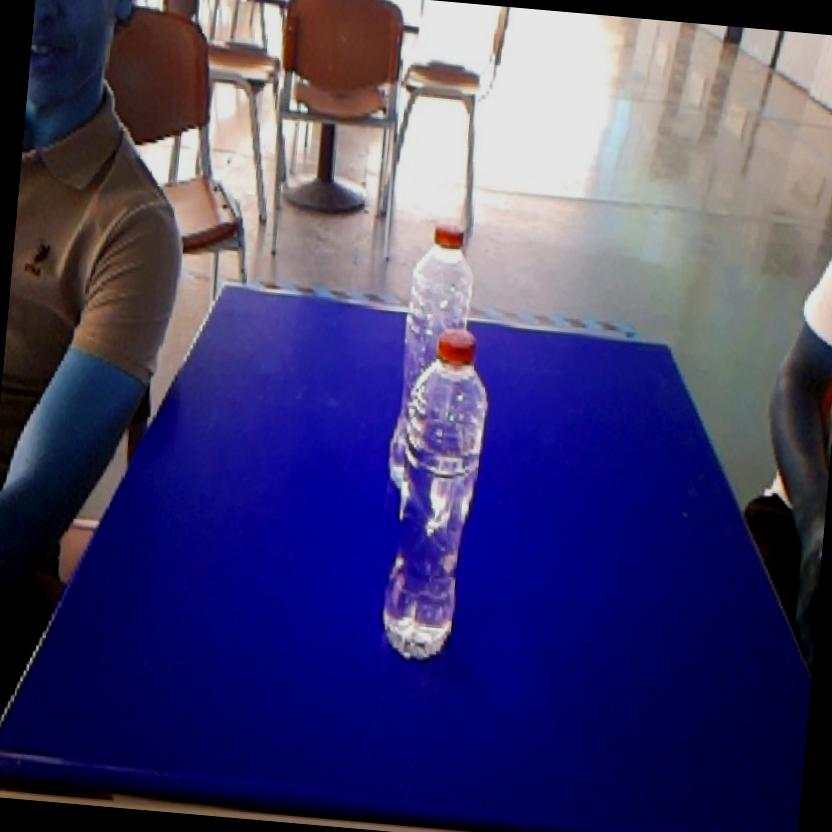no_label: (365, 318, 505, 676), (400, 207, 490, 330)
